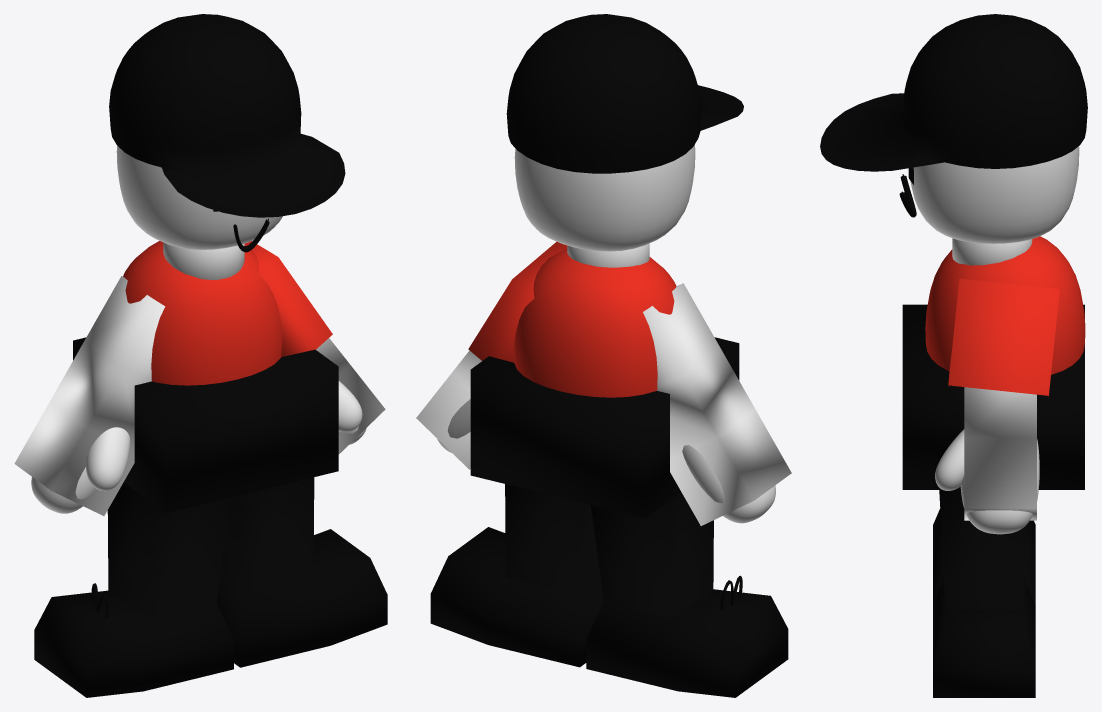
Rendered from Cass.glb.
The picture shows the model from 3 angles, left to right: view 1: azimuth 30°, elevation 25°; view 2: azimuth 150°, elevation 25°; view 3: azimuth 270°, elevation 25°; orthographic projection. The views are drawn at different scales.
Parts seen in each view (by area): view 1: GORRA, pierna1, Cube.002, pierna 2, Cube.005, TOP, Cube, Cube.001, MANGAS, CUELLO; view 2: pierna1, GORRA, Cube.002, pierna 2, Cube.005, TOP, Cube, MANGAS, Cube.001, CUELLO; view 3: GORRA, pierna 2, Cube.002, Cube, MANGAS, Cube.005, TOP, Cube.001, CUELLO, pierna1.
Boxes of the visible parts, x1,y1,x2,y2 form: GORRA: (109,14,345,217); pierna1: (34,482,233,697); Cube.002: (73,337,338,513); pierna 2: (216,477,387,667); Cube.005: (14,276,385,515); TOP: (123,241,282,385); Cube: (116,146,282,249); Cube.001: (31,381,366,513); MANGAS: (244,241,332,356); CUELLO: (163,242,244,279); pierna1: (586,492,788,697); GORRA: (506,14,743,173); Cube.002: (470,337,739,517); pierna 2: (430,484,603,667); Cube.005: (416,283,791,525); TOP: (514,248,676,397); Cube: (514,144,695,251); MANGAS: (468,241,567,362); Cube.001: (437,399,775,523); CUELLO: (567,243,649,267); GORRA: (820,14,1087,171); pierna 2: (933,490,1035,697); Cube.002: (902,304,1084,489); Cube: (910,146,1079,243); MANGAS: (948,278,1059,397); Cube.005: (964,387,1036,520); TOP: (925,236,1085,374); Cube.001: (935,429,1039,534); CUELLO: (952,238,1032,265); pierna1: (933,508,1035,604).
Size of the model in its own units: 2.24 by 3.98 by 1.58.
